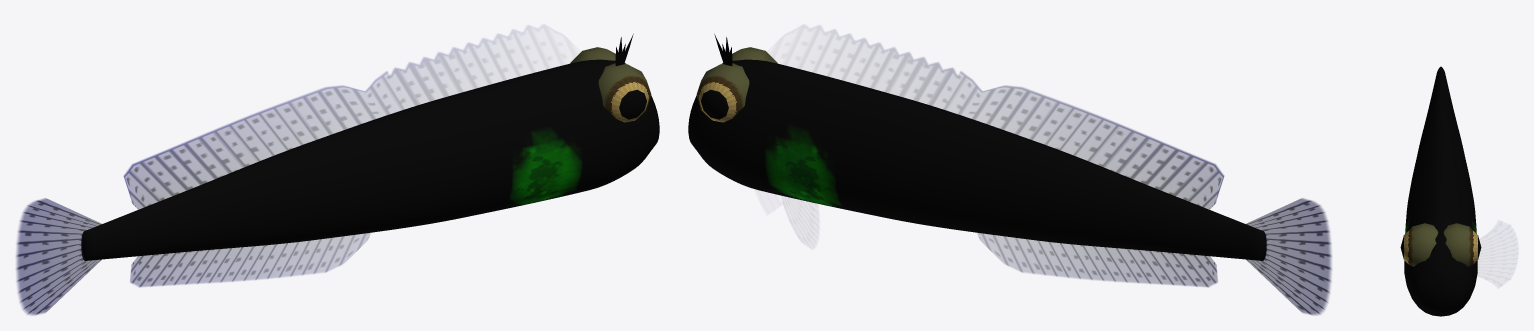
Rendered from lawnmower_blenny.glb.
3 renders of one model, left to right at view 1: azimuth 30°, elevation 25°; view 2: azimuth 150°, elevation 25°; view 3: azimuth 270°, elevation 25°, orthographic. The views are drawn at different scales.
Parts seen in each view (by area): view 1: Body, FinDorsal, FinAnal, FinCaudal, EyeR, EyeL; view 2: Body, FinDorsal, FinAnal, FinCaudal, EyeL, EyeR; view 3: Body, EyeL, EyeR.
Boxes of the visible parts, left/top/right/bottom form: Body: left=81, top=34, right=659, bottom=260; FinDorsal: left=123, top=31, right=534, bottom=209; FinAnal: left=130, top=233, right=370, bottom=287; FinCaudal: left=16, top=198, right=102, bottom=315; EyeR: left=598, top=63, right=651, bottom=122; EyeL: left=570, top=47, right=615, bottom=63; Body: left=688, top=34, right=1266, bottom=260; FinDorsal: left=813, top=31, right=1224, bottom=209; FinAnal: left=977, top=233, right=1217, bottom=287; FinCaudal: left=1245, top=198, right=1331, bottom=315; EyeL: left=696, top=63, right=749, bottom=122; EyeR: left=732, top=47, right=777, bottom=63; Body: left=1404, top=66, right=1477, bottom=316; EyeL: left=1443, top=223, right=1481, bottom=266; EyeR: left=1400, top=223, right=1438, bottom=266.
Bounding box in the file's own units: 1 × 0.3027 × 0.2827.
4 materials, 3 textured.
